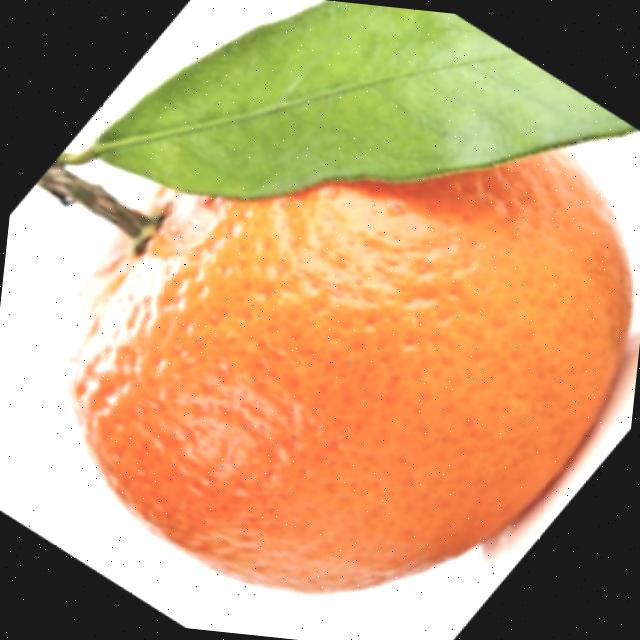orange: (39, 59, 640, 628)
